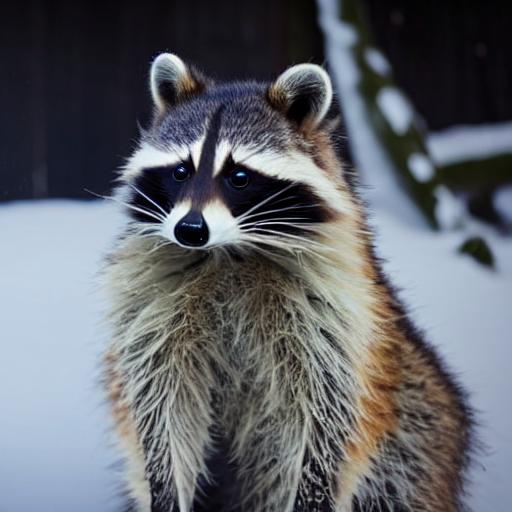raccoon: (88, 44, 478, 512)
